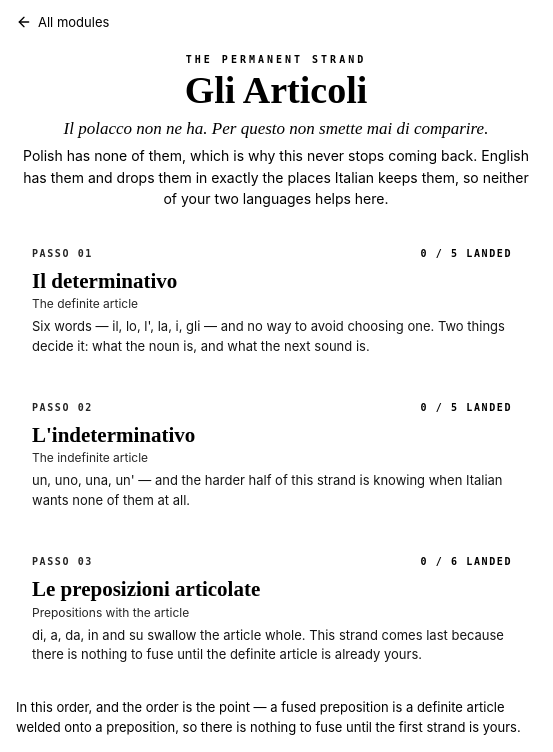
Scenario: the teaching card › states every rule the strand goes on to drill
Click the button "Il determinativo" at (55, 253), box 16,232 -> 536,372
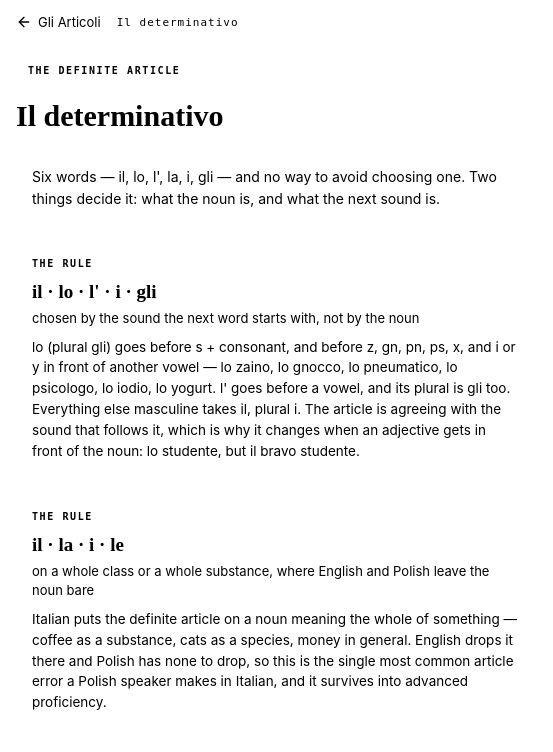
Expected: the text "chosen by the sound the next word starts with, not by the noun" is shown, 32,310 -> 420,326
Expected: the text "on a whole class or a whole substance, where English and Polish leave the noun bare" is shown, 32,563 -> 489,598
Expected: the text "lo (plural gli) goes before s + consonant, and before z, gn, pn, ps, x, and i or y in front of another vowel — lo zaino," is shown, 32,338 -> 516,459
